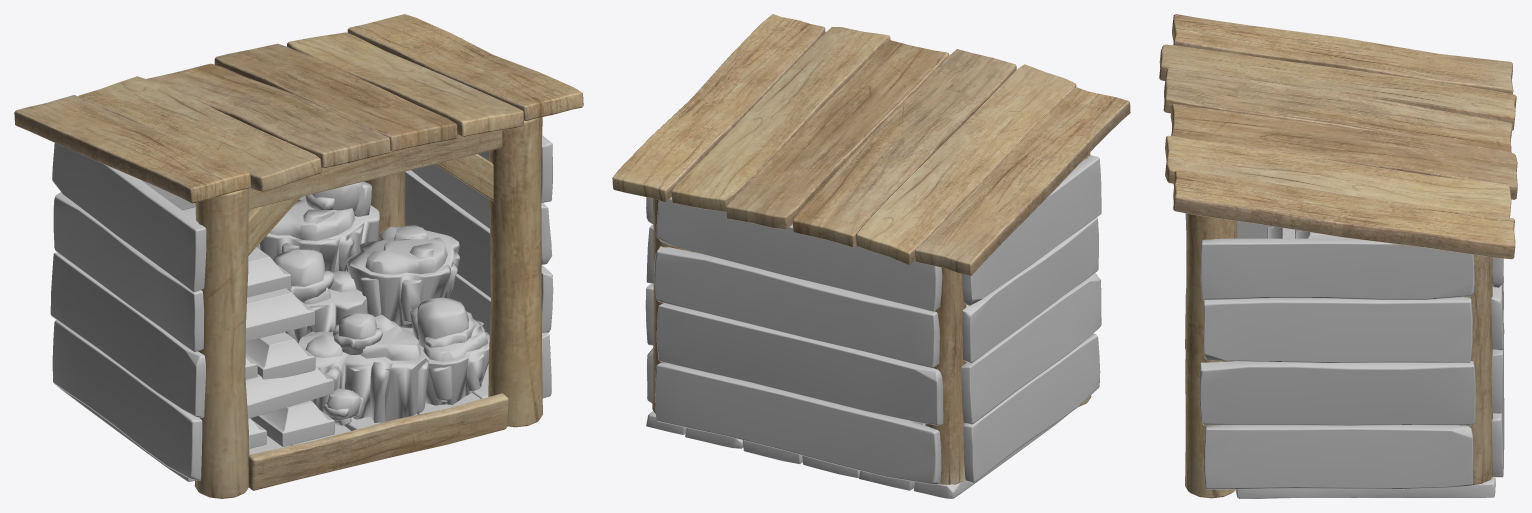
The picture shows the model from 3 angles, left to right: view 1: azimuth 30°, elevation 25°; view 2: azimuth 150°, elevation 25°; view 3: azimuth 270°, elevation 25°; orthographic projection. The views are drawn at different scales.
Parts seen in each view (by area): view 1: SM_Ore_Storage_LOD0; view 2: SM_Ore_Storage_LOD0; view 3: SM_Ore_Storage_LOD0.
Part boxes in pixels (left/top/right/bottom): SM_Ore_Storage_LOD0: left=14, top=14, right=583, bottom=498; SM_Ore_Storage_LOD0: left=612, top=14, right=1130, bottom=498; SM_Ore_Storage_LOD0: left=1159, top=14, right=1517, bottom=498.
Size of the model in its own units: 1.83 by 1.48 by 1.5.
